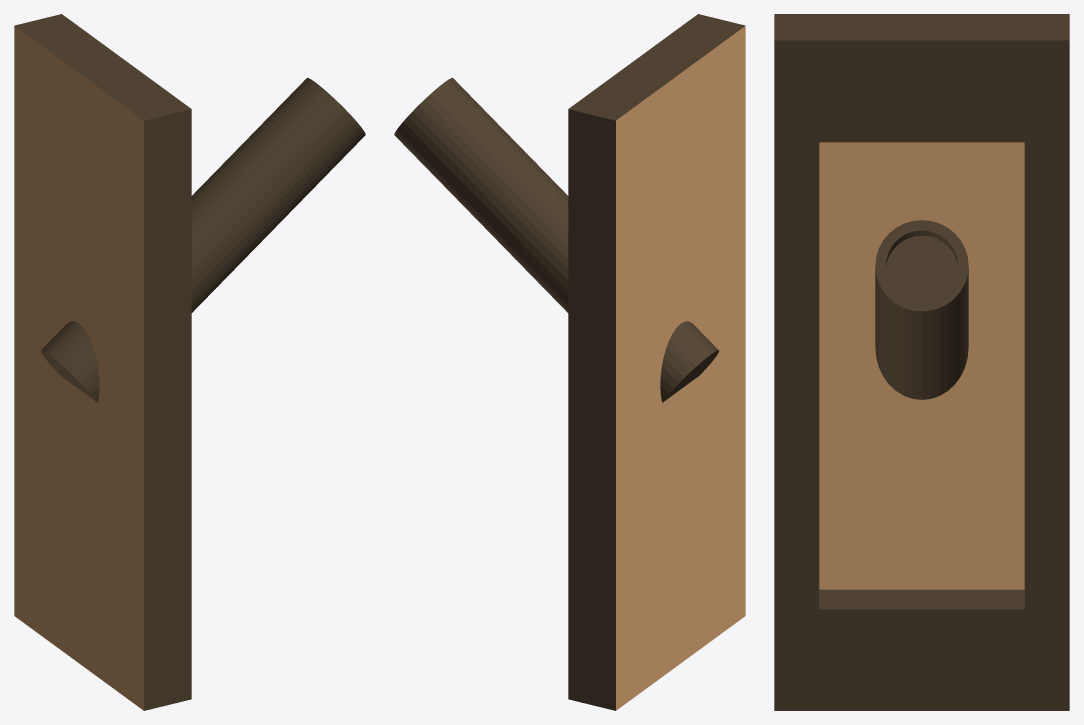
The model's file is Lever_Up.fbx.
The picture shows the model from 3 angles, left to right: view 1: azimuth 30°, elevation 25°; view 2: azimuth 150°, elevation 25°; view 3: azimuth 270°, elevation 25°; orthographic projection. The views are drawn at different scales.
Parts seen in each view (by area): view 1: Cube.001, Cylinder; view 2: Cube.001, Cylinder; view 3: Cube.001, Cylinder.
Part boxes in pixels (x1=…): Cube.001: x1=14, y1=14, x2=191, y2=710; Cylinder: x1=41, y1=78, x2=365, y2=402; Cube.001: x1=568, y1=14, x2=745, y2=710; Cylinder: x1=394, y1=78, x2=718, y2=402; Cube.001: x1=774, y1=14, x2=1069, y2=710; Cylinder: x1=875, y1=220, x2=968, y2=399.
Bounding box in the file's own units: 70.2 × 128 × 51.19.
